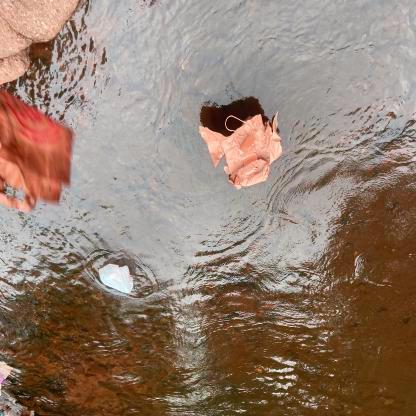Plastic: (94, 258, 137, 298)
Trash: (0, 79, 79, 218), (196, 106, 287, 192)
